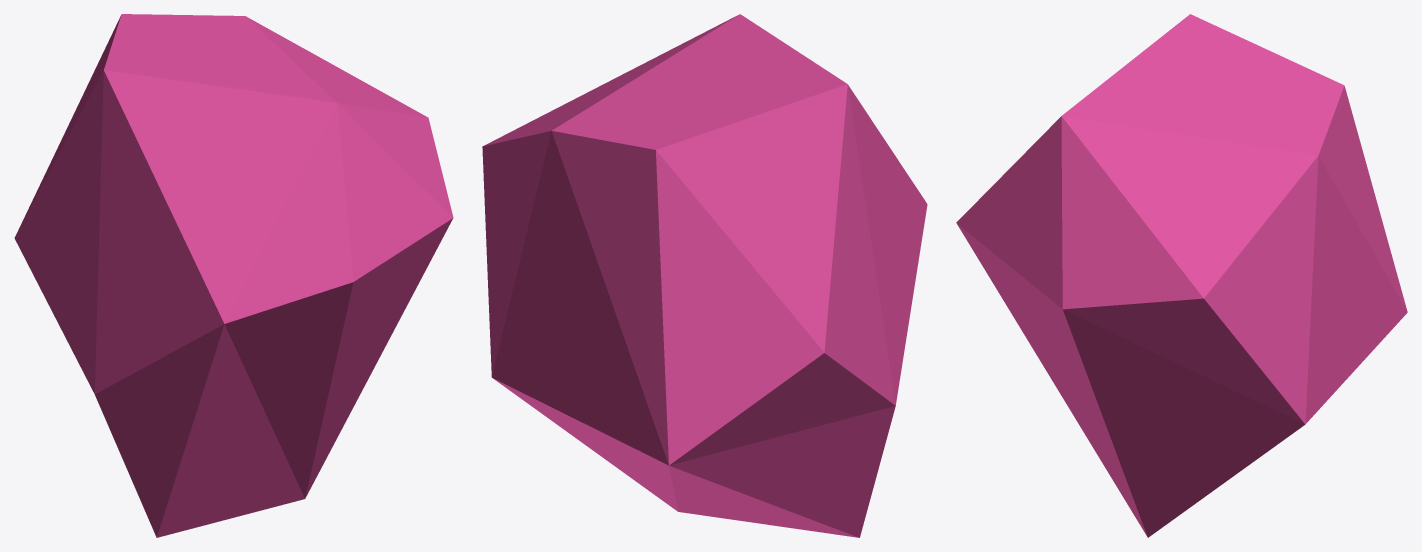
File: Pink_Crystal_1.gltf
3 views of the same model, side by side, from view 1: azimuth 30°, elevation 25°; view 2: azimuth 150°, elevation 25°; view 3: azimuth 270°, elevation 25° (orthographic). The views are drawn at different scales.
Visible parts, largest first — view 1: Icosphere.002; view 2: Icosphere.002; view 3: Icosphere.002.
Part boxes in pixels (x1,y1,x2,y2): Icosphere.002: (14,14,453,537); Icosphere.002: (482,14,927,537); Icosphere.002: (956,14,1407,537).
Bounding box in the file's own units: 2.01 × 2.4 × 2.23.
